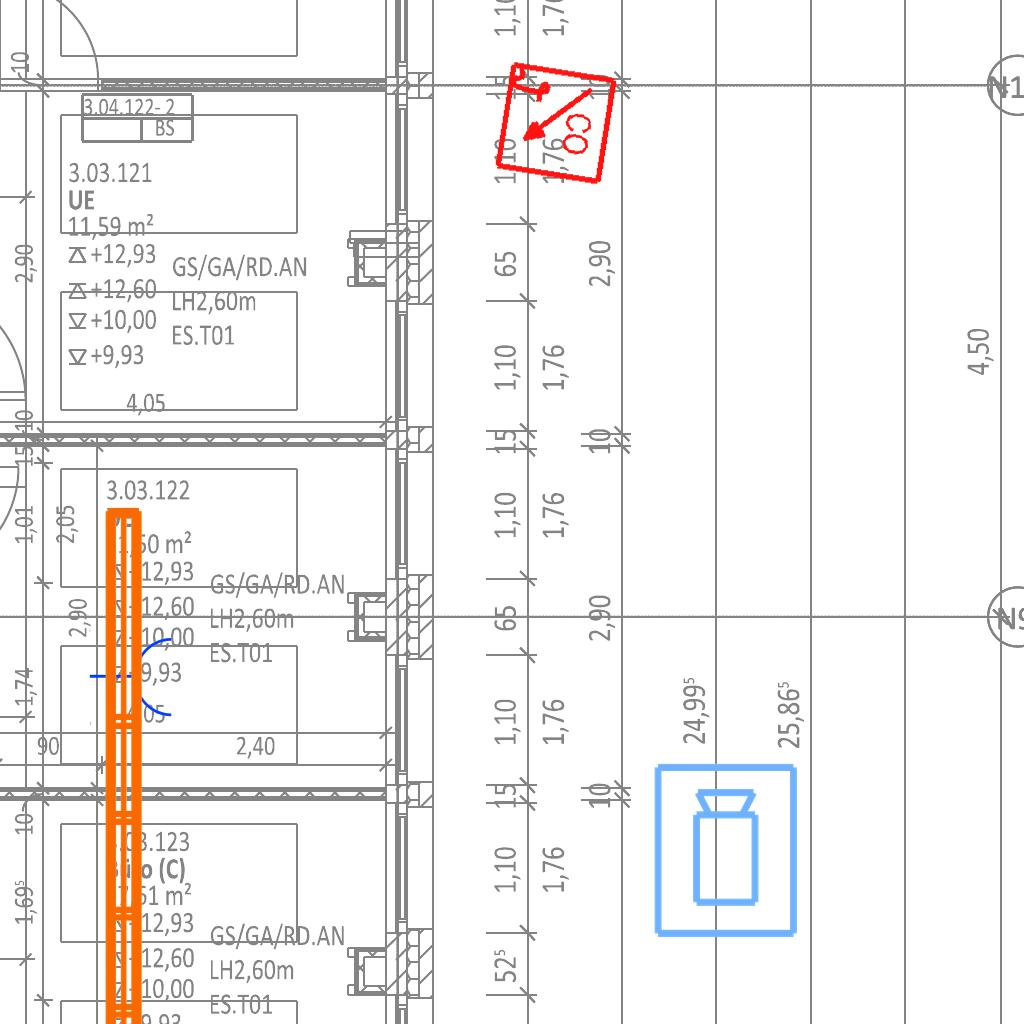Ambulanz_Pendelleuchte_LED: (93, 497, 205, 1024)
KFO_Kamera_mit_Festobjektiv: (650, 760, 804, 942)
ROA_Rauchmelder_optisch_mit_Signalgeber_(Sockelsirene): (489, 58, 620, 189)
Schukosteckdose_einfach: (89, 627, 176, 727)
